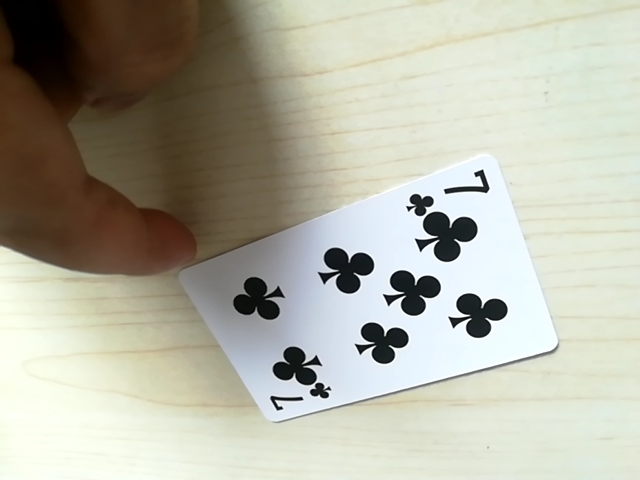mh 7: (404, 166, 494, 206), (258, 384, 333, 421)
